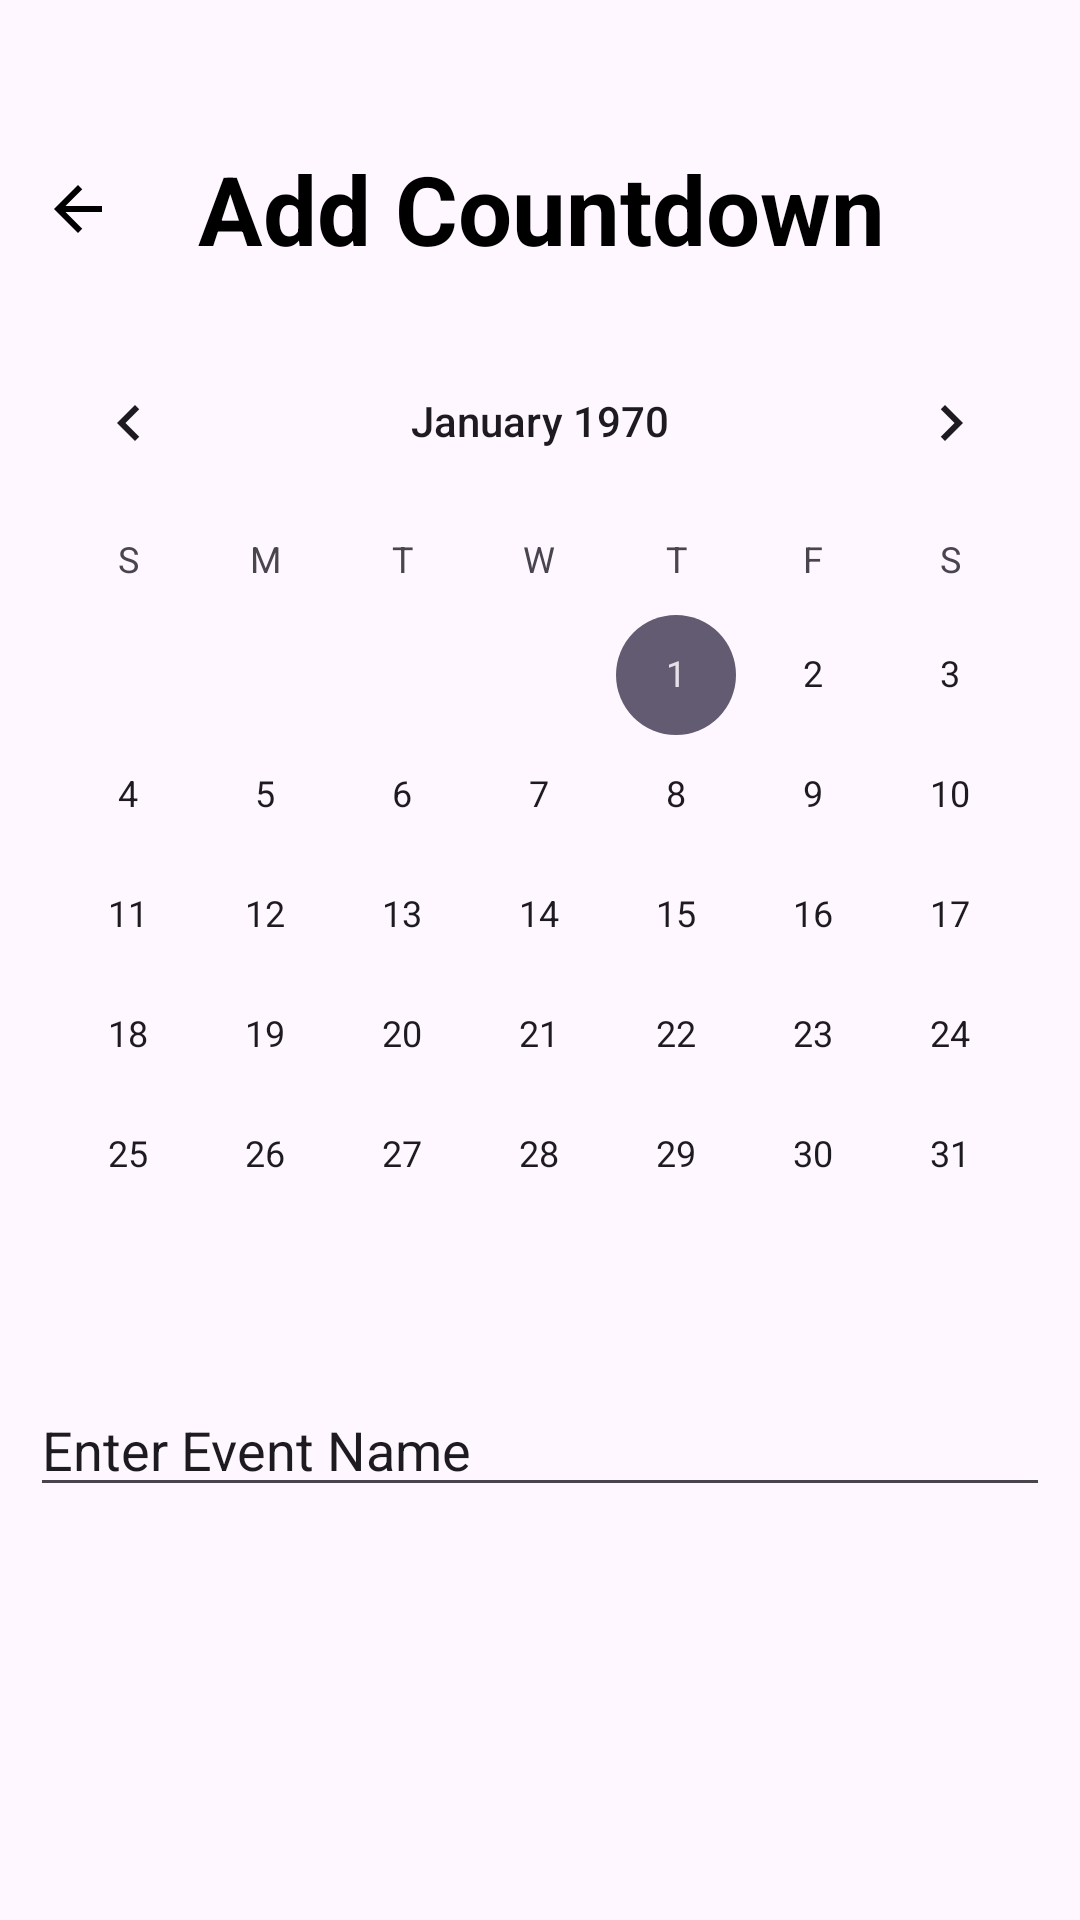

Point at icon controls on the screen. Image size 1080×1920, points as (x,y).
Back Button: (78,209)
